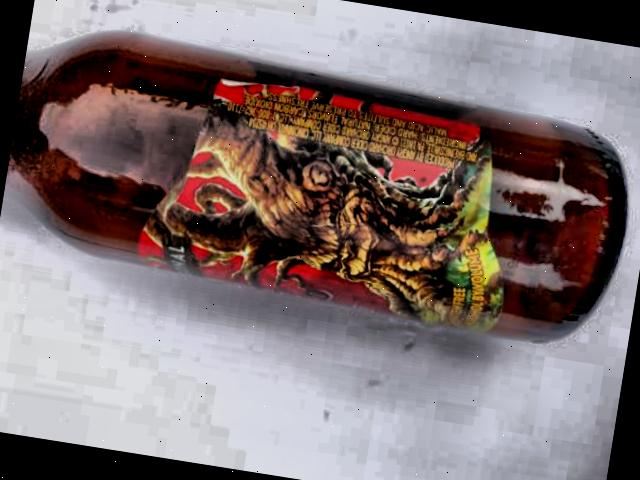Bottles: (0, 0, 640, 382)
